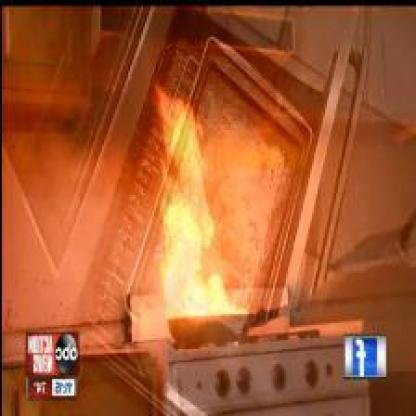Fire: (157, 84, 205, 318)
